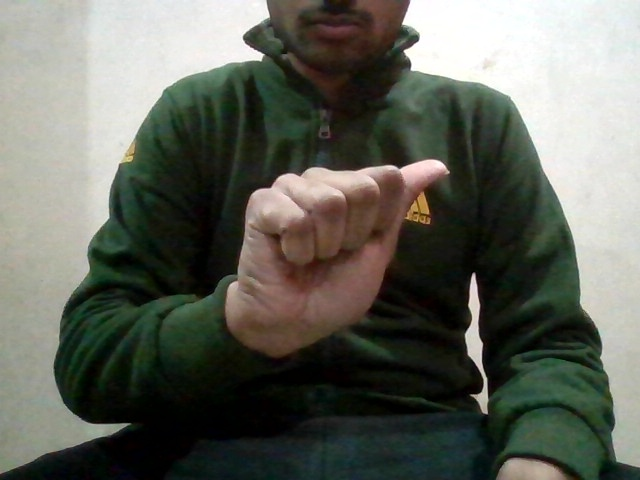A: (223, 153, 454, 361)
